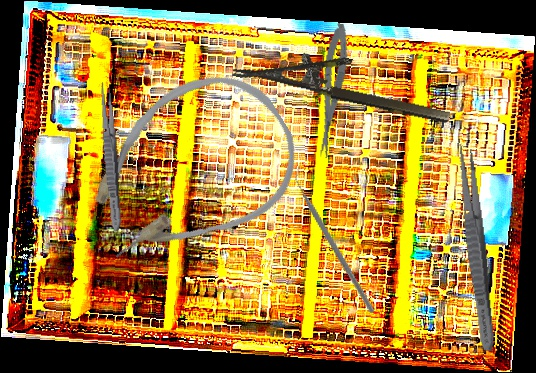Cannula: (55, 47, 321, 293)
Chopper: (254, 165, 418, 314)
Dressing Forceps: (452, 142, 500, 353), (96, 81, 125, 232)
Micro Scissor: (309, 22, 354, 159)
Needle Holder: (231, 33, 458, 126)
